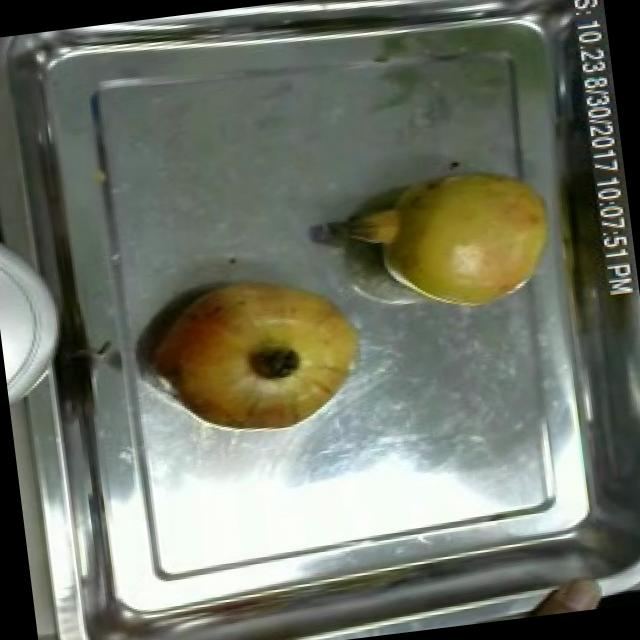fruit: (132, 258, 388, 452), (342, 147, 568, 329), (512, 570, 618, 618)
